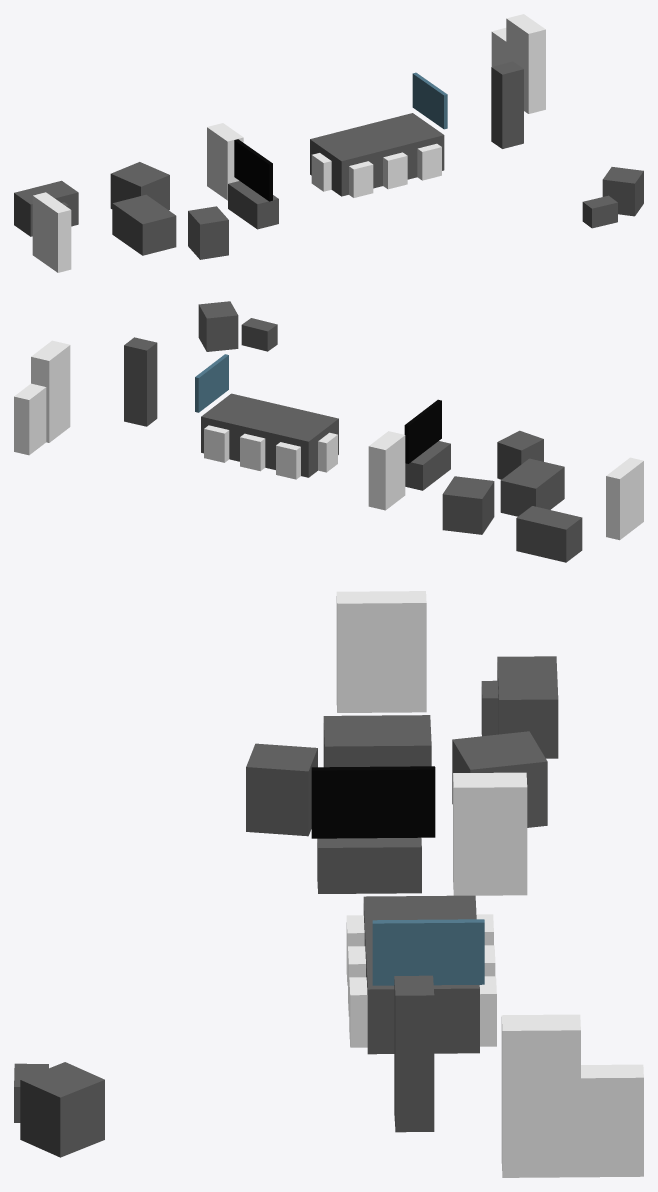
Rendered from interior.glb.
3 renders of one model, top to bottom at view 1: azimuth 30°, elevation 25°; view 2: azimuth 150°, elevation 25°; view 3: azimuth 270°, elevation 25°, orthographic. The views are drawn at different scales.
Visible parts, largest first — view 1: Table1.001_mat1, Sofa2.001_mat1, Storage1.001_mat2, Storage4.001_mat2, Storage3.001_mat1, Sofa0.001_mat1, Chair0.001_ma1, Storage2.001_mat2, Storage0.001_mat1, Table2.001_mat1, Sofa1.001_mat1, Television1.001_mat4 (+7 smaller); view 2: Table1.001_mat1, Table2.001_mat1, Sofa2.001_mat1, Storage1.001_mat2, Storage3.001_mat1, Sofa0.001_mat1, Storage4.001_mat2, Storage2.001_mat2, Storage5.001_mat2, Sofa1.001_mat1, Television1.001_mat4, Storage0.001_mat1 (+7 smaller); view 3: Storage1.001_mat2, Storage4.001_mat2, Storage2.001_mat2, Television1.001_mat4, Storage5.001_mat2, Table1.001_mat1, Television0.001_mat3, Sofa1.001_mat1, Storage3.001_mat1, Chair0.001_ma1, Storage0.001_mat1, Sofa2.001_mat1 (+5 smaller).
Boxes of the visible parts, box(x1,y1,x2,y2) form: Table1.001_mat1: box(310, 113, 444, 196); Sofa2.001_mat1: box(112, 194, 176, 255); Storage1.001_mat2: box(506, 14, 545, 113); Storage4.001_mat2: box(32, 192, 71, 272); Storage3.001_mat1: box(491, 61, 523, 148); Sofa0.001_mat1: box(110, 162, 169, 210); Chair0.001_ma1: box(188, 206, 228, 259); Storage2.001_mat2: box(207, 123, 243, 200); Storage0.001_mat1: box(228, 181, 278, 229); Table2.001_mat1: box(14, 180, 78, 236); Sofa1.001_mat1: box(602, 167, 643, 216); Television1.001_mat4: box(234, 139, 272, 201); Table1.001_mat1: box(201, 393, 338, 477); Table2.001_mat1: box(516, 506, 582, 562); Sofa2.001_mat1: box(500, 458, 564, 516); Storage1.001_mat2: box(31, 340, 70, 442); Storage3.001_mat1: box(124, 337, 157, 426); Sofa0.001_mat1: box(442, 476, 494, 534); Storage4.001_mat2: box(606, 457, 643, 540); Storage2.001_mat2: box(368, 431, 405, 510); Storage5.001_mat2: box(14, 383, 46, 455); Sofa1.001_mat1: box(198, 301, 238, 351); Television1.001_mat4: box(404, 399, 441, 463); Storage0.001_mat1: box(405, 441, 450, 490); Storage1.001_mat2: box(501, 1014, 580, 1177); Storage4.001_mat2: box(336, 591, 426, 712); Storage2.001_mat2: box(453, 772, 527, 895); Television1.001_mat4: box(311, 766, 435, 838); Storage5.001_mat2: box(567, 1064, 643, 1177); Table1.001_mat1: box(363, 895, 479, 1054); Television0.001_mat3: box(372, 919, 484, 985); Sofa1.001_mat1: box(20, 1062, 104, 1157); Storage3.001_mat1: box(394, 975, 434, 1132); Chair0.001_ma1: box(246, 743, 317, 836); Storage0.001_mat1: box(317, 837, 421, 893); Sofa2.001_mat1: box(323, 715, 431, 767).
Bounding box in the file's own units: 14.09 × 2.02 × 7.85.
